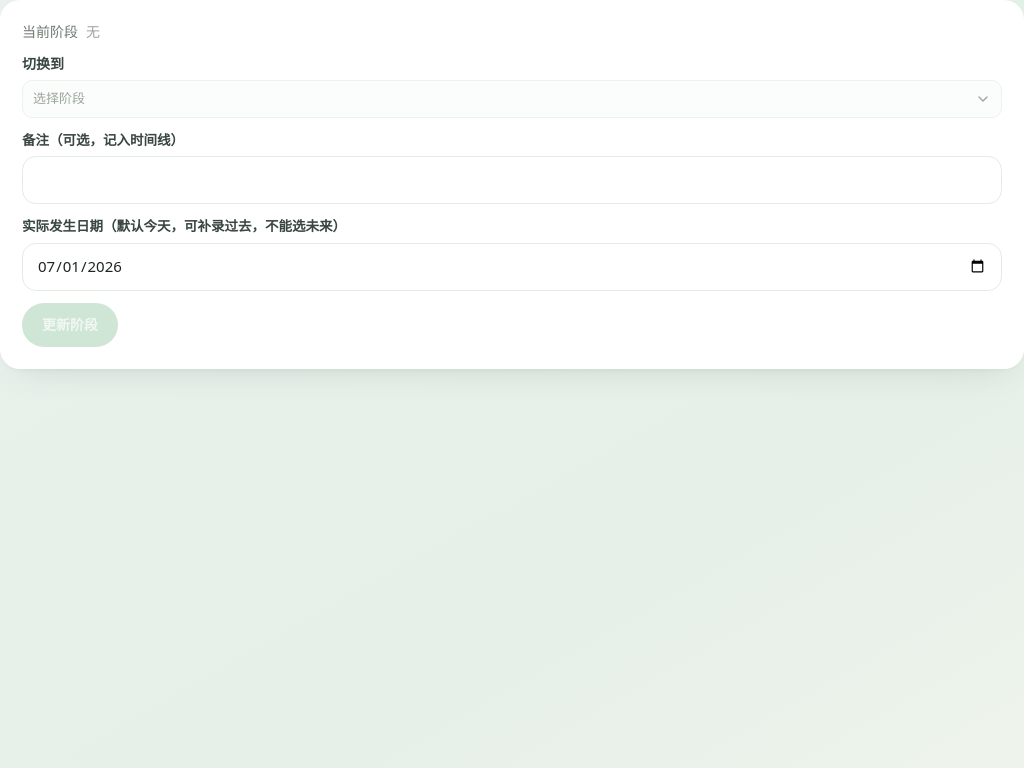
Test: StageControl · 职业评估专属阶段（FancySelect · 7 个英文阶段 · 禁未来） › 职业评估未推进（current=todo）：当前阶段显示「无」（不显待办徽章）；下拉仍恰好 7 个 OA 阶段、无待办选项
expect the text "无" is shown: met, box [86,22,100,42]
Click the button with aria-label "切换到" at (59, 98), box [22,80,1002,118]
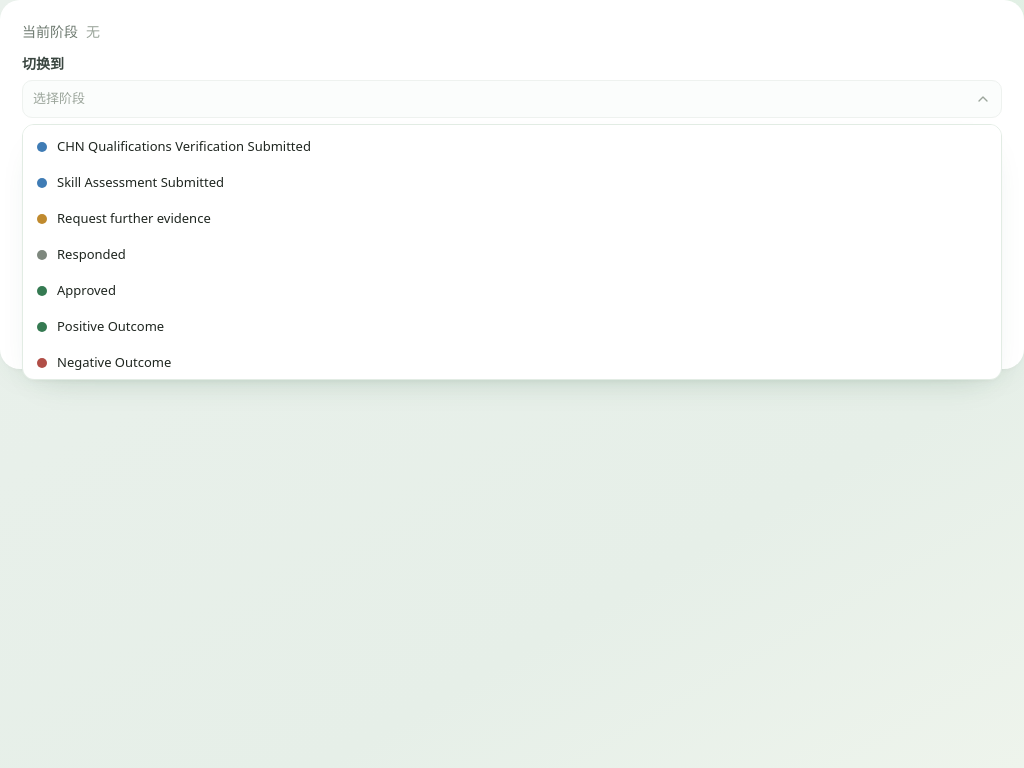
expect the number of options is 7: met
